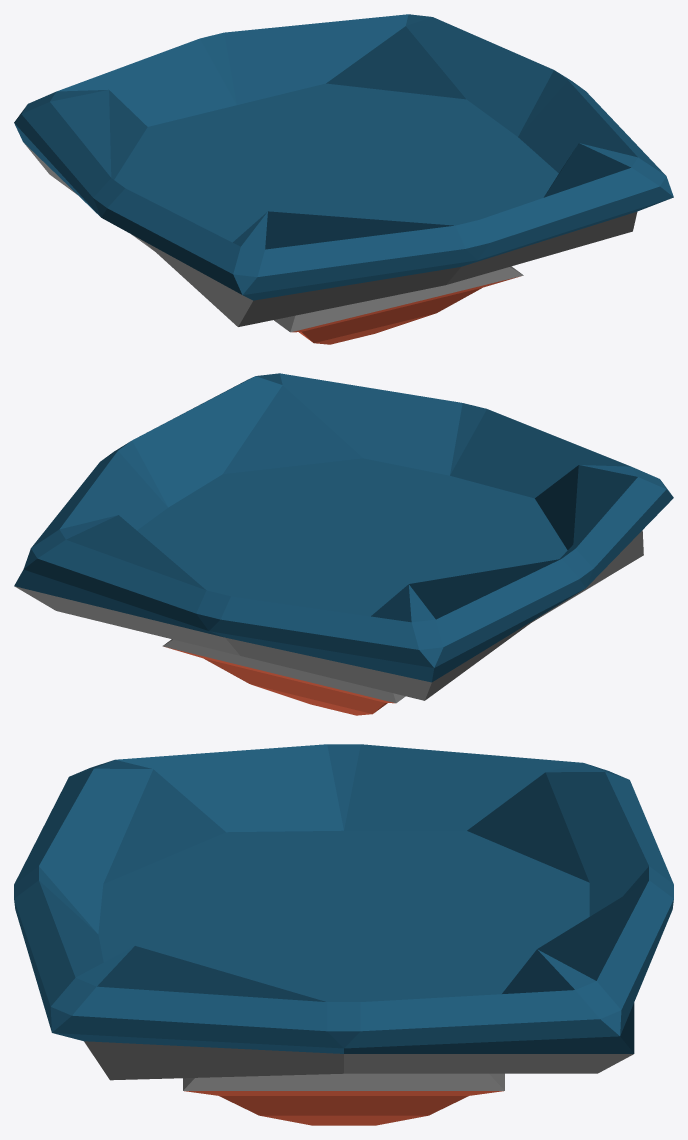
File: banditFlyingSled.glb
3 views of the same model, one above another, from view 1: azimuth 30°, elevation 25°; view 2: azimuth 150°, elevation 25°; view 3: azimuth 270°, elevation 25° (orthographic). The views are drawn at different scales.
Parts seen in each view (by area): view 1: Cube; view 2: Cube; view 3: Cube.
Boxes of the visible parts, <box> form: Cube: <box>14,14,673,344</box>; Cube: <box>14,373,673,715</box>; Cube: <box>14,744,673,1125</box>.
Size of the model in its own units: 3.6 by 1.54 by 3.6.
Materials: 1 (1 with a texture image).
